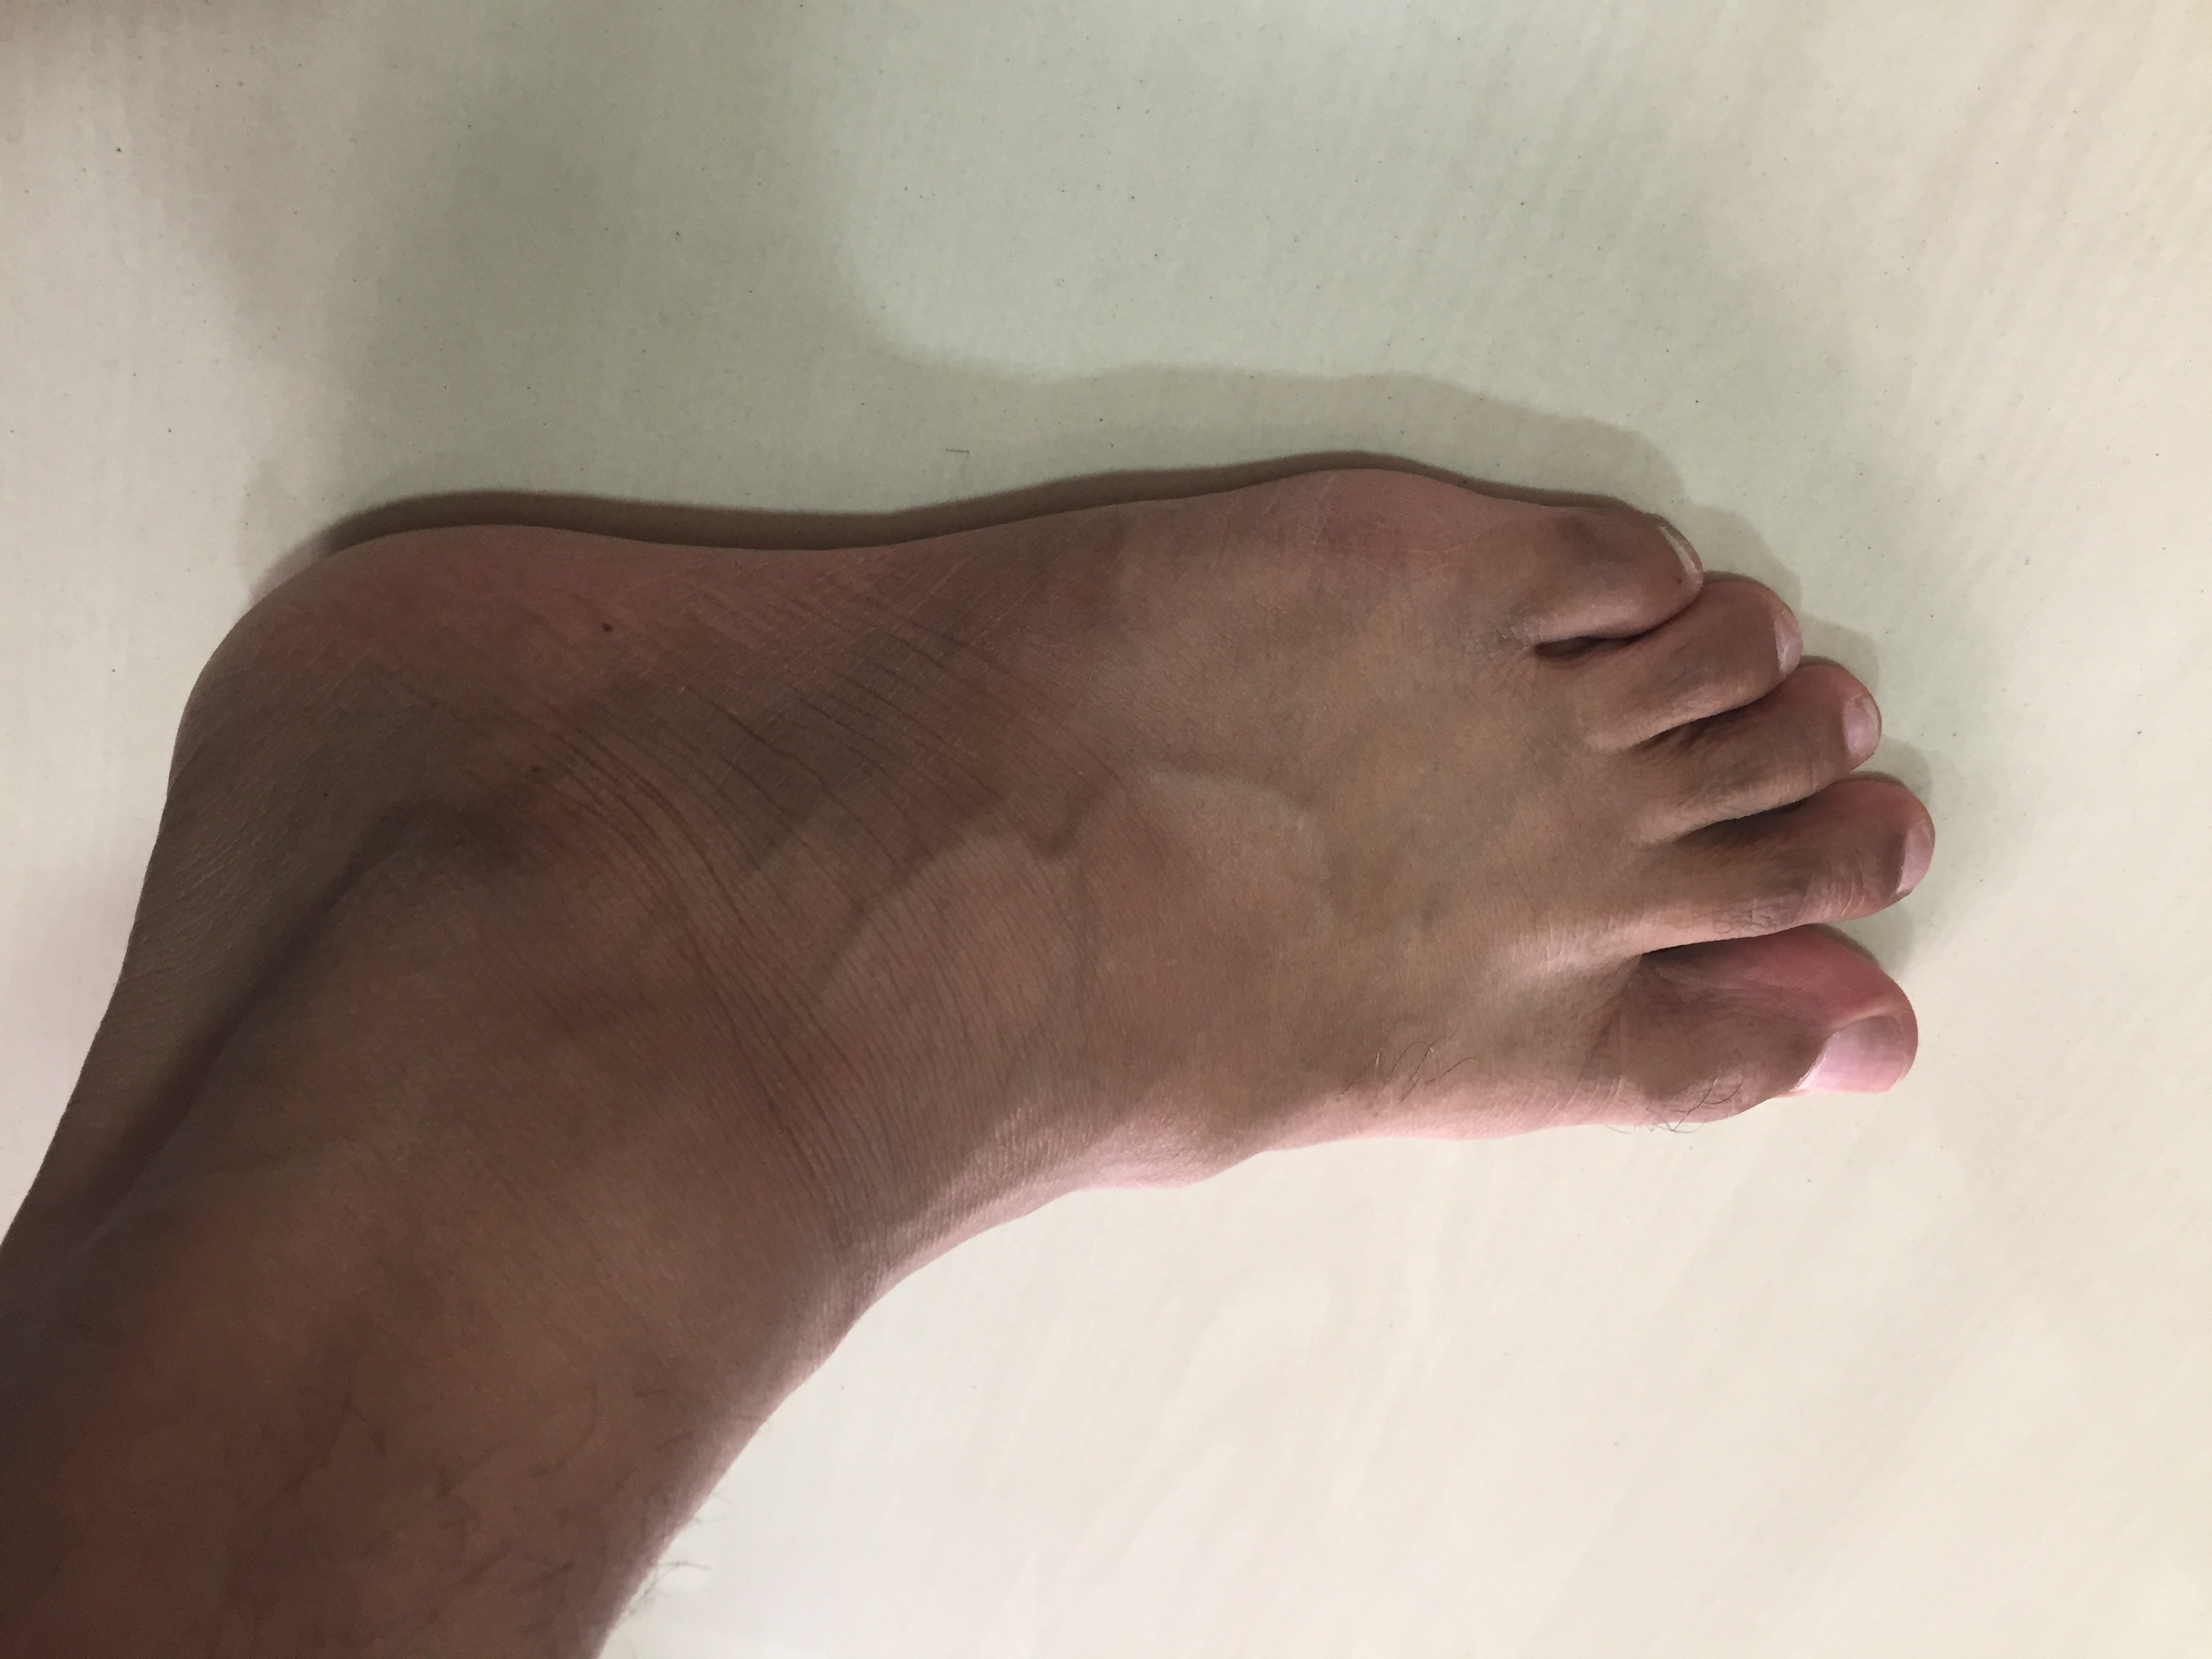feet: (37, 347, 1968, 1338)
